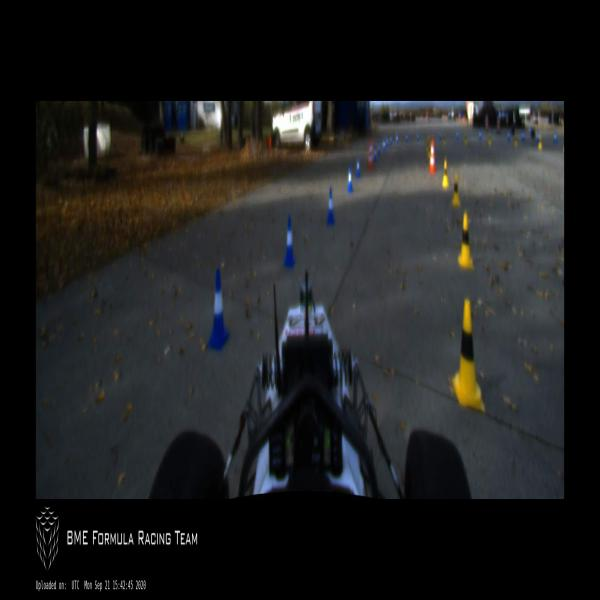blue_cone: (207, 268, 230, 353), (284, 216, 296, 268), (326, 188, 335, 226), (347, 166, 353, 193), (356, 157, 360, 178), (382, 139, 386, 152), (374, 146, 377, 163), (521, 131, 525, 142), (378, 142, 381, 156), (554, 132, 557, 144), (389, 135, 392, 146), (507, 130, 510, 141), (439, 130, 442, 140), (479, 130, 482, 140), (536, 133, 539, 142), (386, 136, 388, 147), (406, 132, 408, 143), (396, 134, 398, 144), (456, 130, 458, 140), (417, 132, 419, 141)
large_orange_cone: (429, 138, 436, 174), (367, 138, 374, 169)
yellow_cone: (452, 298, 486, 414), (457, 211, 474, 271), (452, 172, 462, 208), (442, 159, 450, 188), (538, 135, 542, 150), (514, 134, 518, 147), (426, 138, 429, 152), (488, 133, 491, 145), (464, 133, 467, 145), (428, 142, 430, 158), (444, 134, 446, 145)
